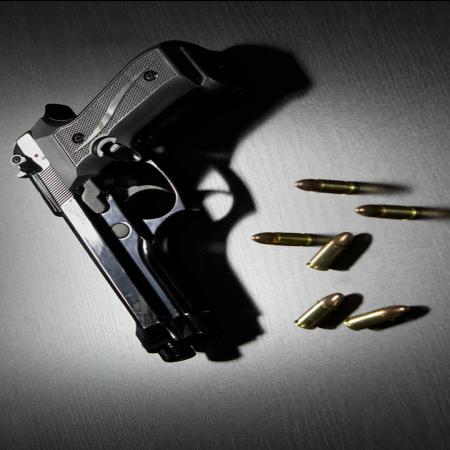Pistol: (3, 45, 303, 369)
